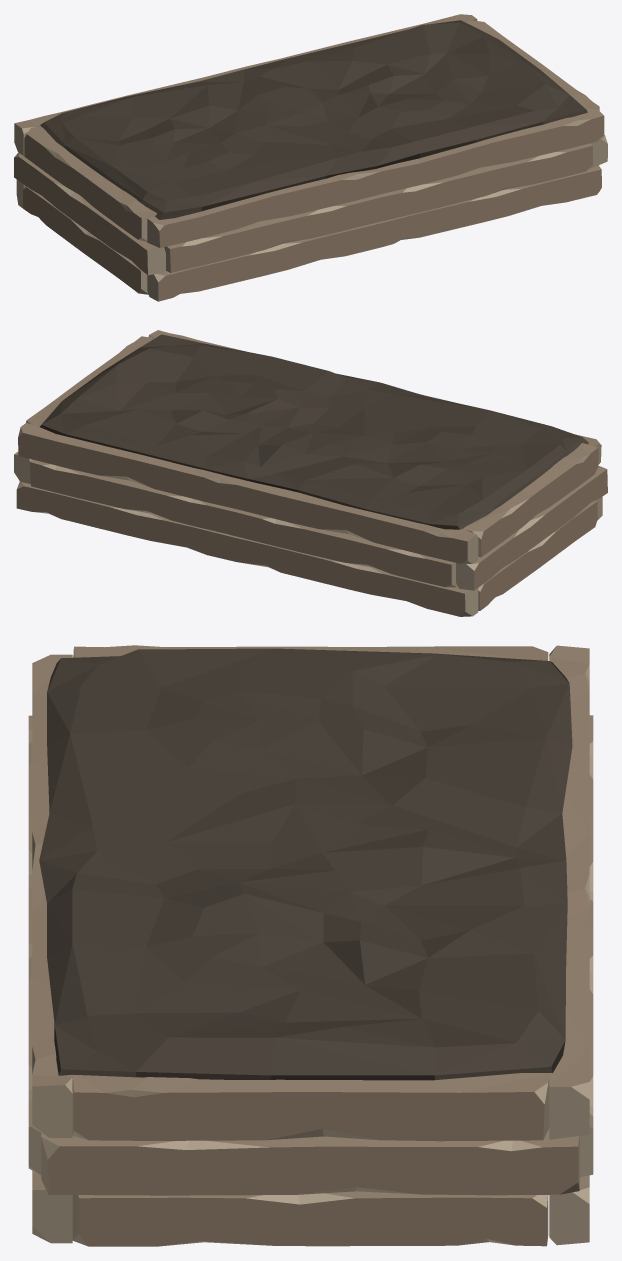
File: SM_Env_Gardenbox_Double_01.fbx
The picture shows the model from 3 angles, top to bottom: view 1: azimuth 30°, elevation 25°; view 2: azimuth 150°, elevation 25°; view 3: azimuth 270°, elevation 25°; orthographic projection. The views are drawn at different scales.
Parts seen in each view (by area): view 1: SM_Env_Gardenbox_Double_01; view 2: SM_Env_Gardenbox_Double_01; view 3: SM_Env_Gardenbox_Double_01.
Part boxes in pixels (bbox=[...]): SM_Env_Gardenbox_Double_01: bbox=[14, 14, 607, 301]; SM_Env_Gardenbox_Double_01: bbox=[14, 330, 607, 616]; SM_Env_Gardenbox_Double_01: bbox=[28, 645, 593, 1246].
Size of the model in its own units: 393 by 75.72 by 209.
